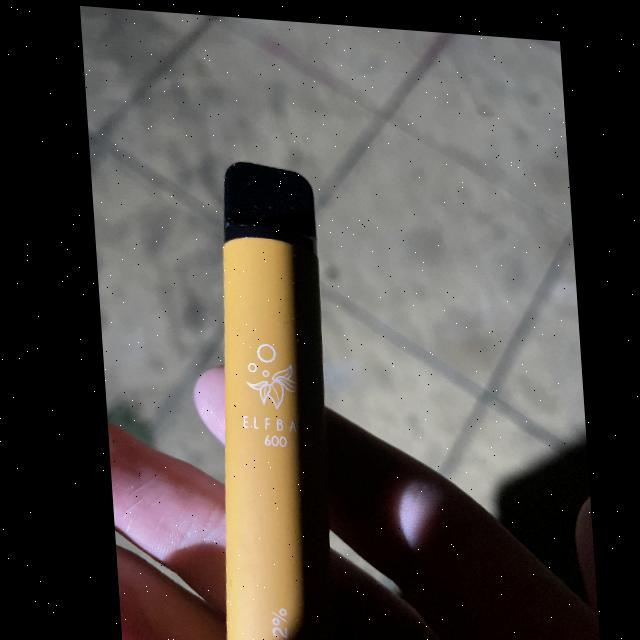vape: (190, 153, 339, 640)
